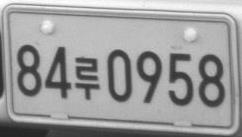0: (106, 48, 132, 102)
4: (44, 45, 72, 99)
5: (168, 52, 195, 106)
8: (197, 53, 226, 108), (16, 43, 42, 97)
9: (135, 49, 162, 103)
루: (74, 56, 100, 100)
